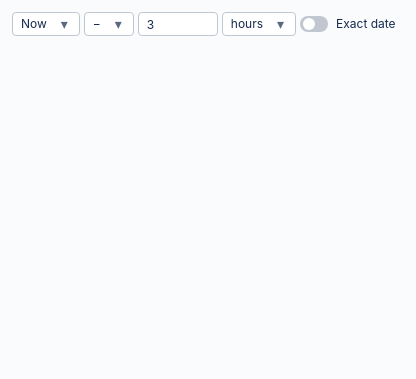
it: RelativeDateInput — point › leaving Now with an hour offset resets to the bare anchor in days
Click the dropdown named "Anchor": (46, 24) [12, 12, 80, 36]
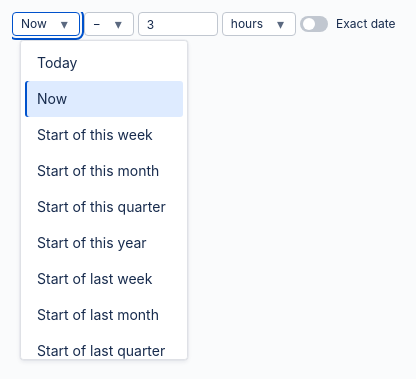
Click the option "Today": (57, 62) [37, 54, 77, 71]
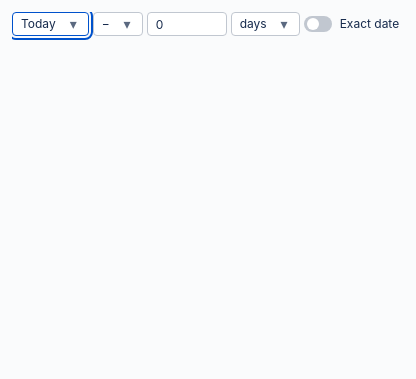
Check: the field named "Amount" holds "0", box [147, 12, 227, 36]
Check: the dropdown named "Unit" reads "days", box [231, 12, 300, 36]
